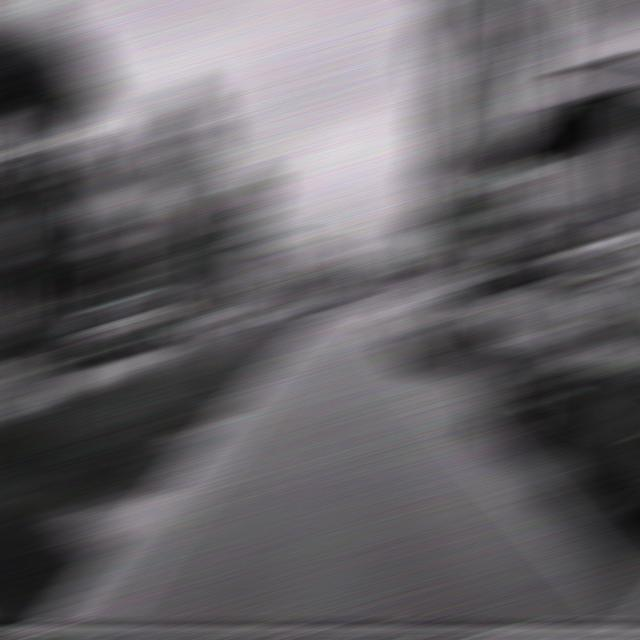speedLimit25: (427, 221, 462, 247)
